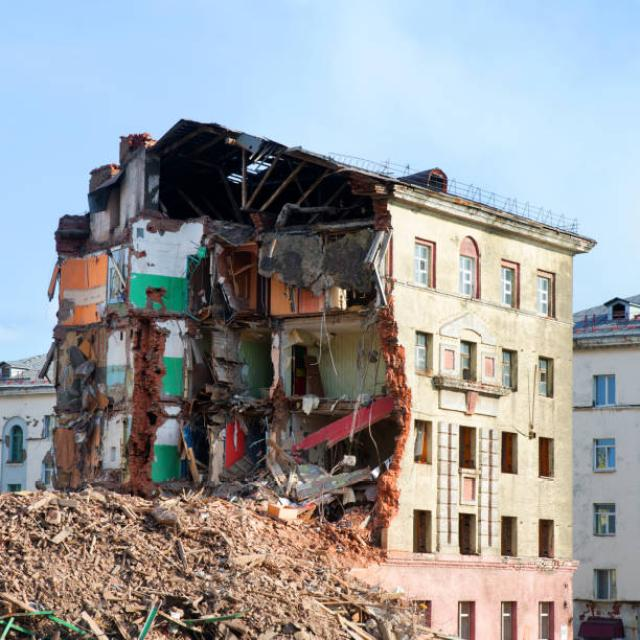Destroyed_building: (6, 0, 608, 640)
